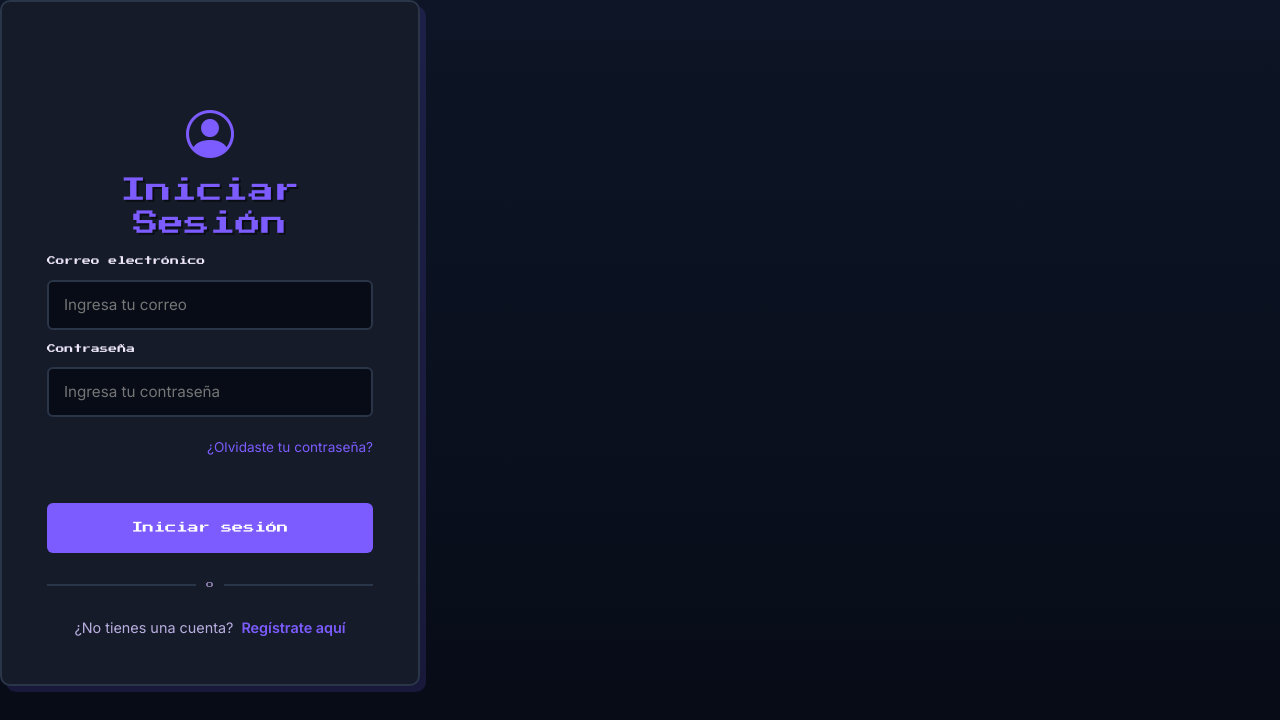
it: CP-2 - Inicio de sesión › debe mostrar un error cuando las credenciales son incorrectas
This screenshot has width=1280, height=720.
Type "usuario@incorrecto.com" into the field labelled "Correo electrónico".
click(210, 304); type("usuario@incorrecto.com")  # box [47, 280, 373, 330]
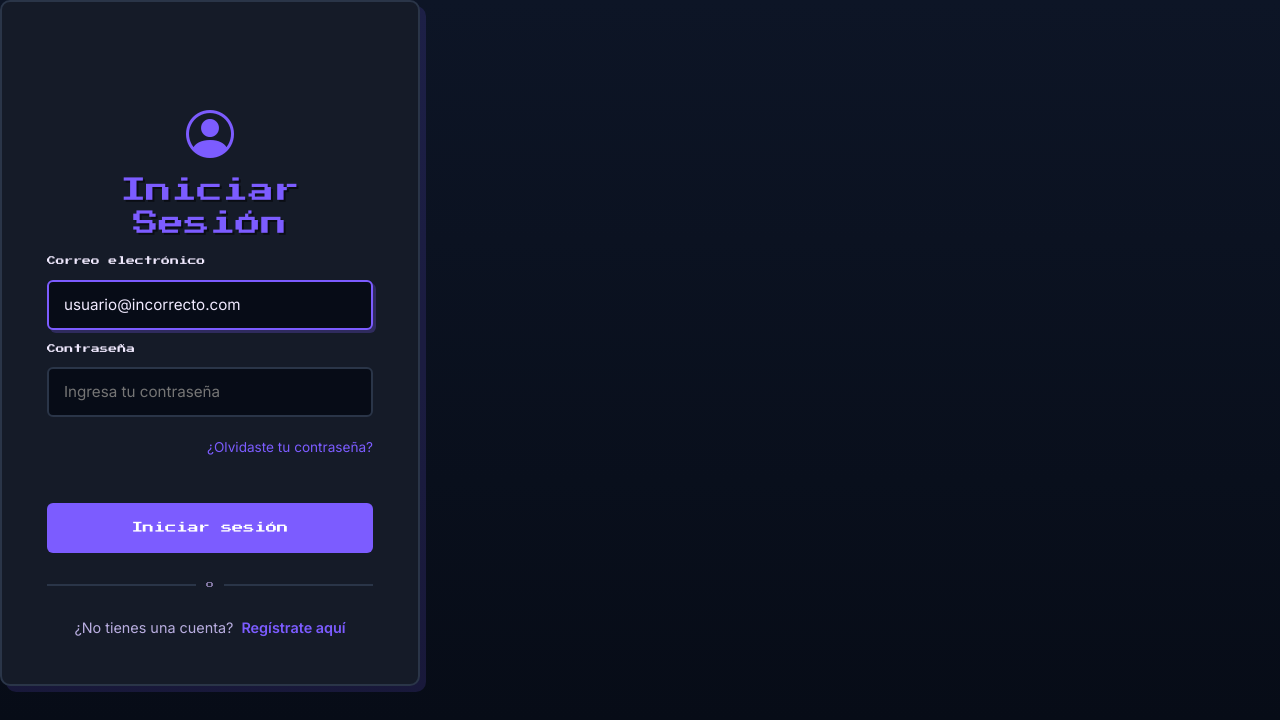
Type "ContraseñaIncorrecta" into the password field labelled "Contraseña".
click(210, 392); type("ContraseñaIncorrecta")  # box [47, 367, 373, 417]
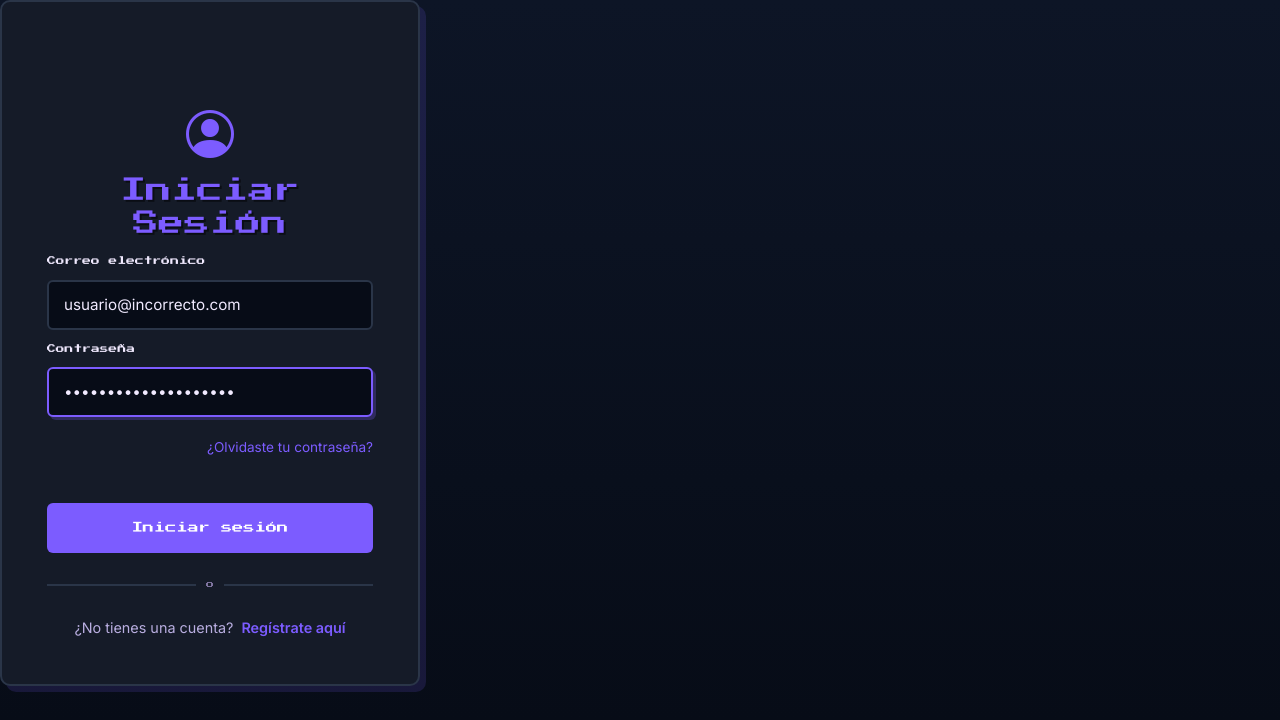
Click the button "Iniciar sesión".
click(210, 528)  # box [47, 504, 373, 554]
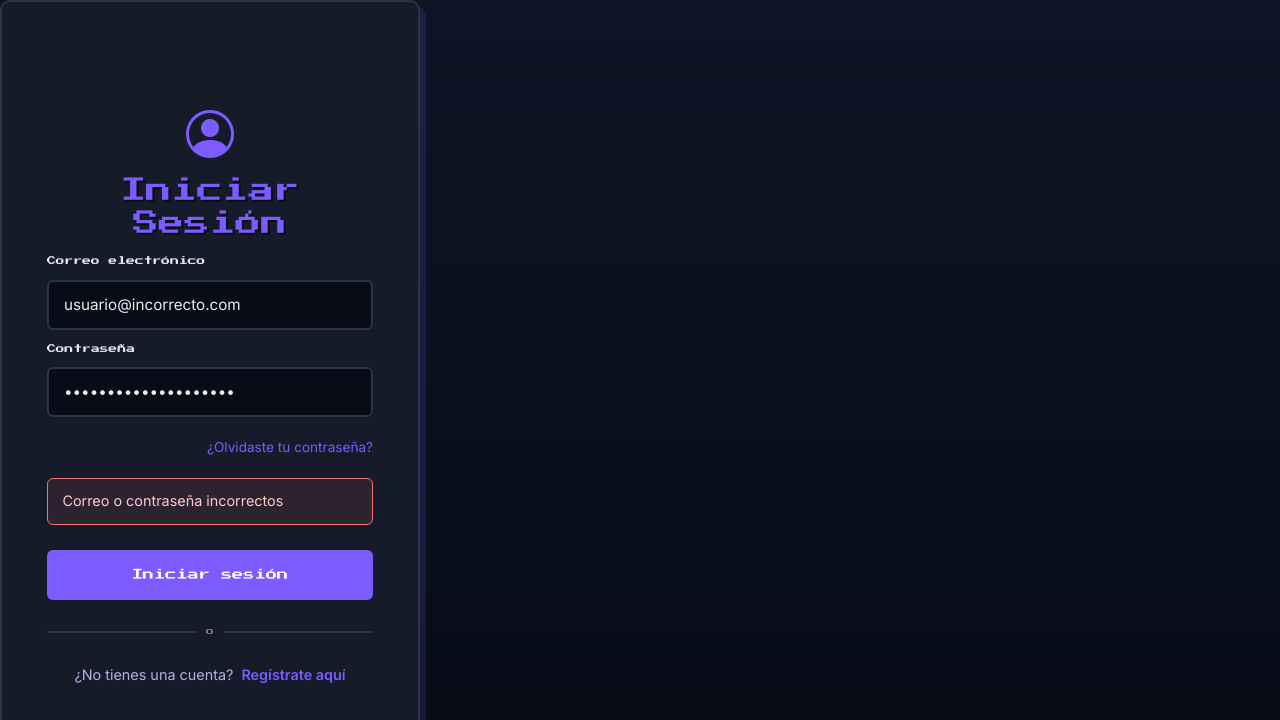
Check: the message reads "Correo o contraseña incorrectos", box [62, 492, 283, 510]
